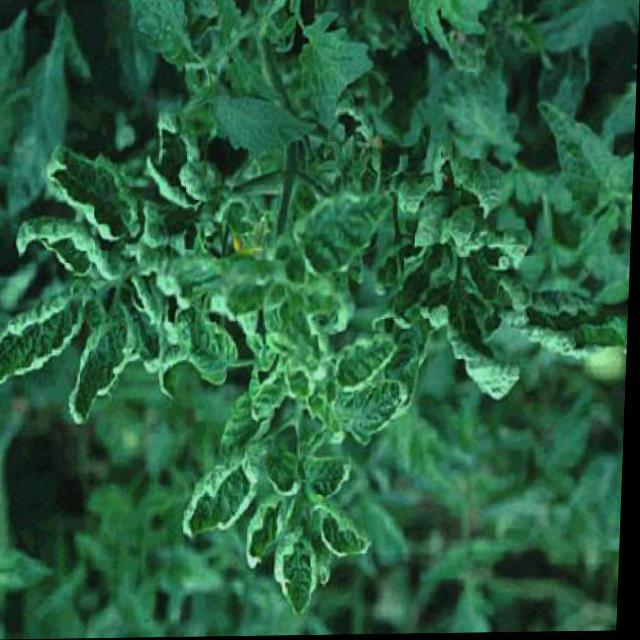Tomato healthy leaf: (0, 120, 155, 246), (0, 268, 106, 398), (290, 174, 407, 286), (306, 315, 408, 417), (0, 210, 139, 280), (58, 312, 123, 441), (340, 354, 424, 449), (275, 494, 327, 627), (184, 458, 269, 538), (306, 496, 400, 557)
